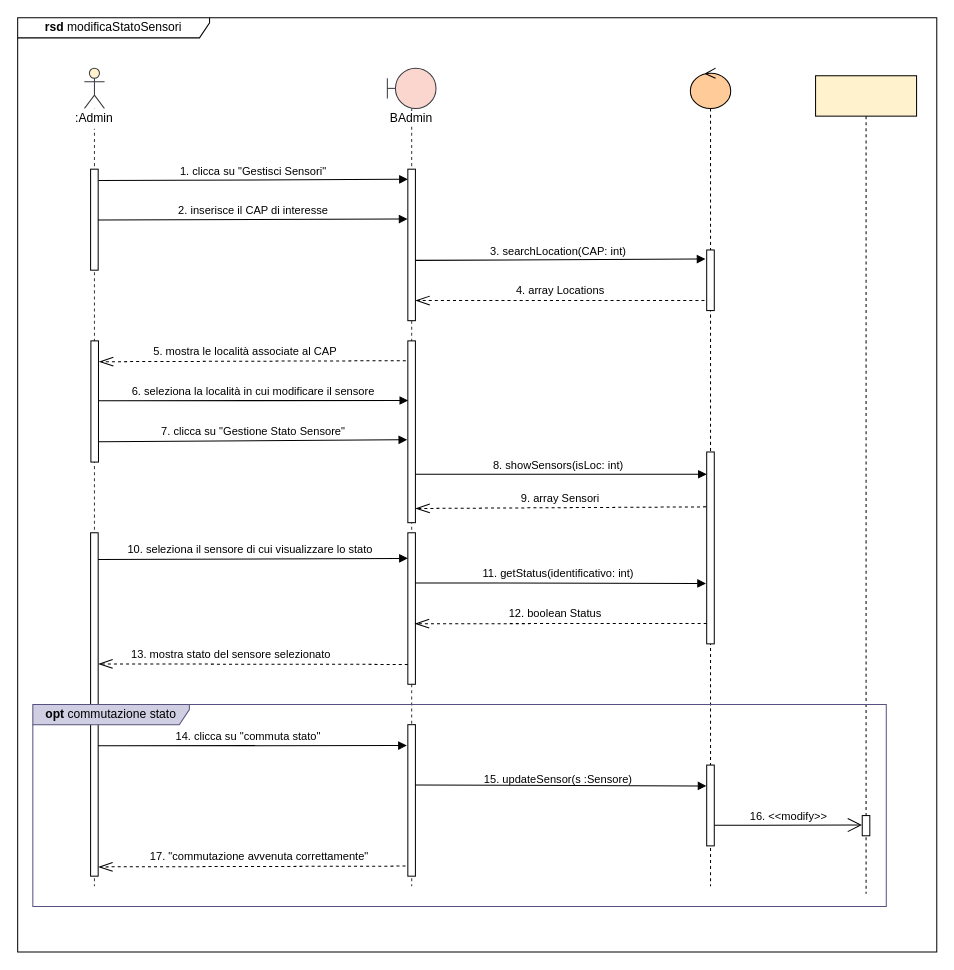
Some shapes in this 954 by 970 pixel diagram are drawn without their labels. The shapes that lost their labels are listed below. From the top down, each one's box as (x1, y1, x2, y2) in pixels, then its label:
(689, 67, 731, 886): SMA
(815, 75, 917, 894): :Sensori
